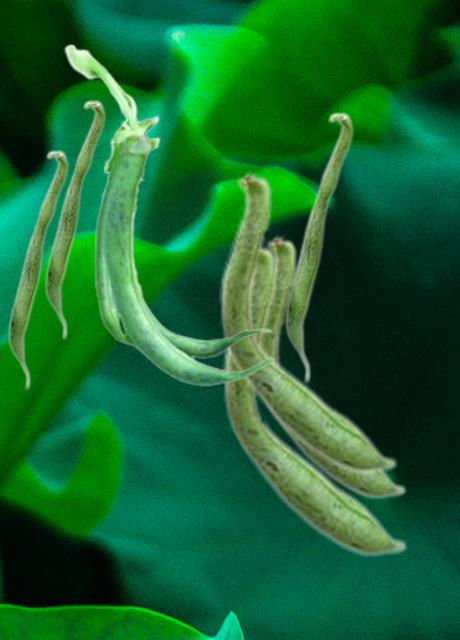french_bean: (63, 43, 274, 386), (222, 244, 407, 557), (219, 169, 397, 474), (262, 233, 406, 499), (284, 111, 353, 384), (44, 99, 105, 340), (7, 149, 68, 390)
